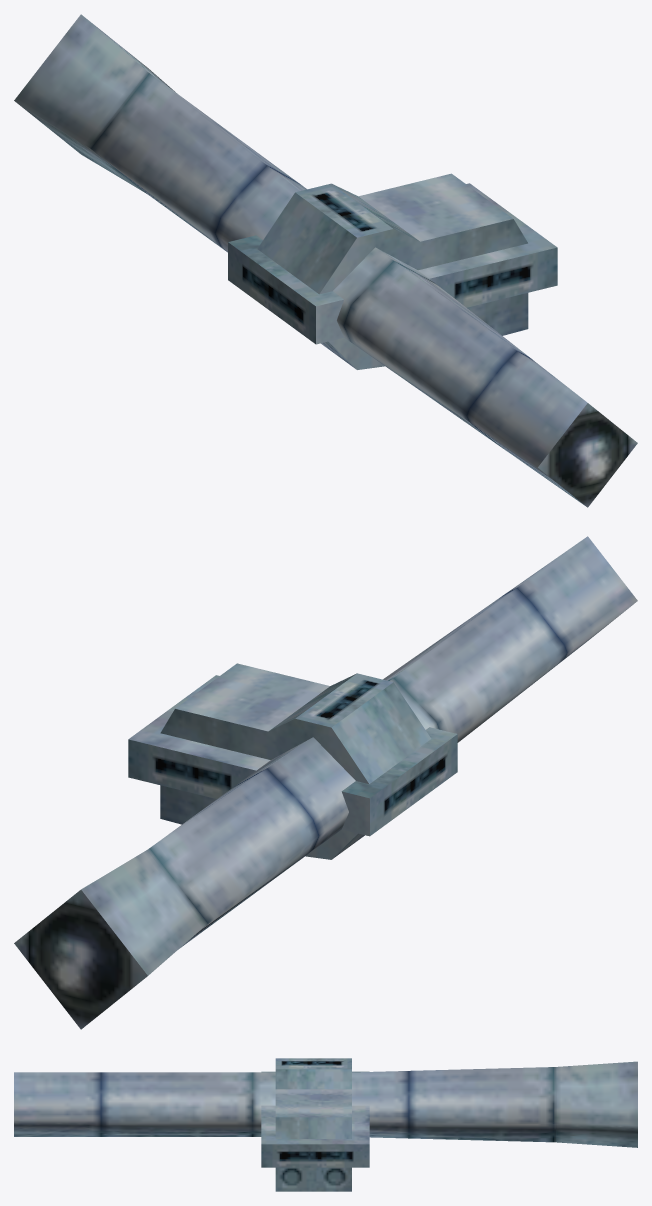
Rendered from wp_scope_de10_l1.fbx.
3 views of the same model, one above another, from view 1: azimuth 30°, elevation 25°; view 2: azimuth 150°, elevation 25°; view 3: azimuth 270°, elevation 25° (orthographic). The views are drawn at different scales.
Visible parts, largest first — view 1: mesh_node; view 2: mesh_node; view 3: mesh_node.
Part boxes in pixels (box(x1,y1,x2,y2)): mesh_node: box(14, 14, 637, 507); mesh_node: box(14, 536, 637, 1029); mesh_node: box(14, 1058, 637, 1191).
Size of the model in its own units: 0.0537 by 0.0298 by 0.1952.
Materials: 1 (1 with a texture image).
